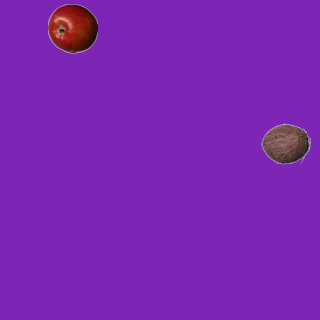Apple Braeburn: (47, 3, 97, 53)
Cocos: (260, 118, 310, 168)
